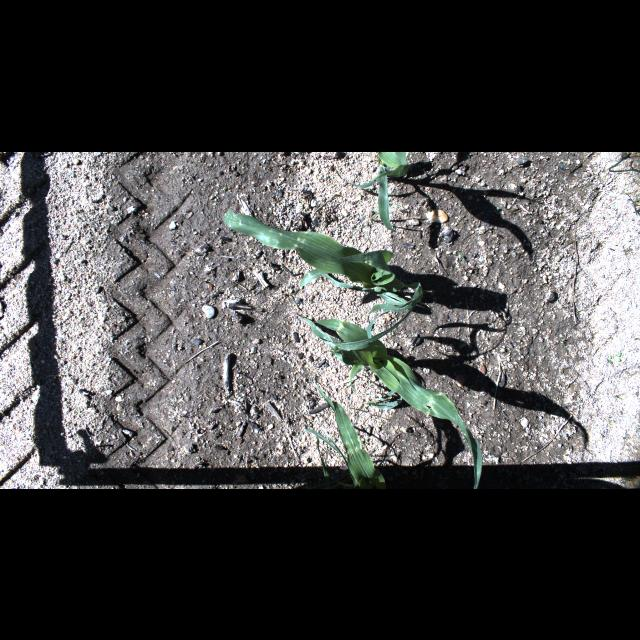crop: (310, 318, 482, 488), (223, 208, 422, 349), (302, 370, 386, 488), (329, 151, 408, 231)
